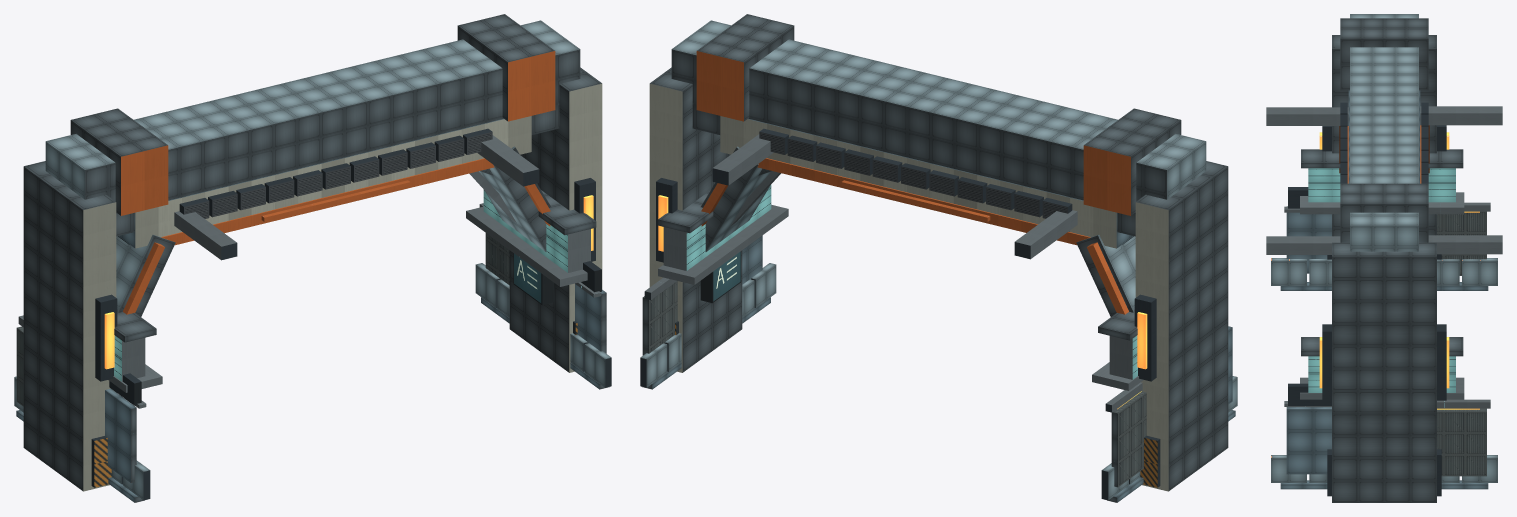
File: shelter.gltf
3 renders of one model, left to right at view 1: azimuth 30°, elevation 25°; view 2: azimuth 150°, elevation 25°; view 3: azimuth 270°, elevation 25°, orthographic. The views are drawn at different scales.
Parts seen in each view (by area): view 1: StormGate, BayFrame, ServiceGallery; view 2: StormGate, BayFrame, ServiceGallery; view 3: StormGate, BayFrame, ServiceGallery.
Part boxes in pixels (left/top/right/bottom): StormGate: left=23, top=14, right=602, bottom=491; BayFrame: left=14, top=135, right=611, bottom=502; ServiceGallery: left=108, top=190, right=596, bottom=392; StormGate: left=649, top=14, right=1228, bottom=491; BayFrame: left=640, top=134, right=1237, bottom=502; ServiceGallery: left=658, top=184, right=1143, bottom=409; StormGate: left=1319, top=14, right=1449, bottom=502; BayFrame: left=1266, top=106, right=1502, bottom=489; ServiceGallery: left=1300, top=149, right=1479, bottom=409.
Size of the model in its own units: 220 by 130 by 99.
Materials: 1 (1 with a texture image).
